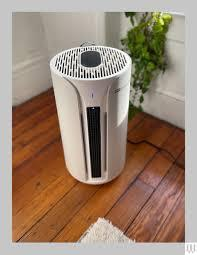Indoor Plant: (124, 12, 171, 111)
air purifier: (50, 44, 133, 185)
